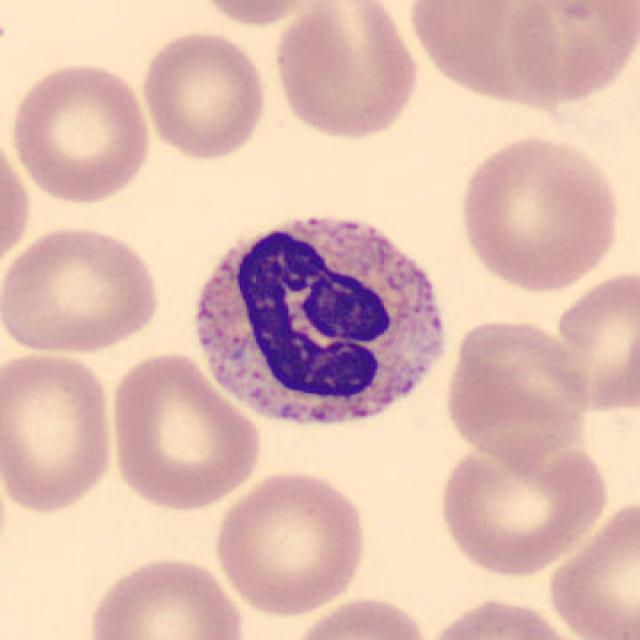Neutrophil: (180, 196, 458, 448)
RBC: (453, 129, 624, 294), (430, 432, 615, 580), (105, 349, 265, 513), (210, 465, 372, 619), (441, 312, 594, 469), (0, 220, 165, 356), (269, 0, 423, 143), (7, 58, 155, 206), (0, 347, 119, 517), (403, 0, 574, 109), (137, 26, 270, 162), (494, 0, 638, 108), (83, 552, 249, 640), (542, 492, 638, 640), (548, 265, 638, 416), (422, 592, 588, 640), (284, 592, 436, 640), (0, 127, 34, 282), (185, 0, 329, 30)
